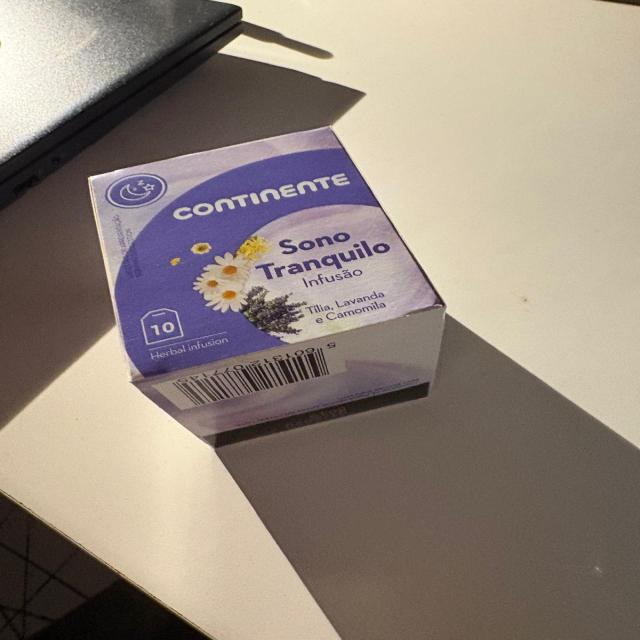good_package: (89, 124, 446, 453)
